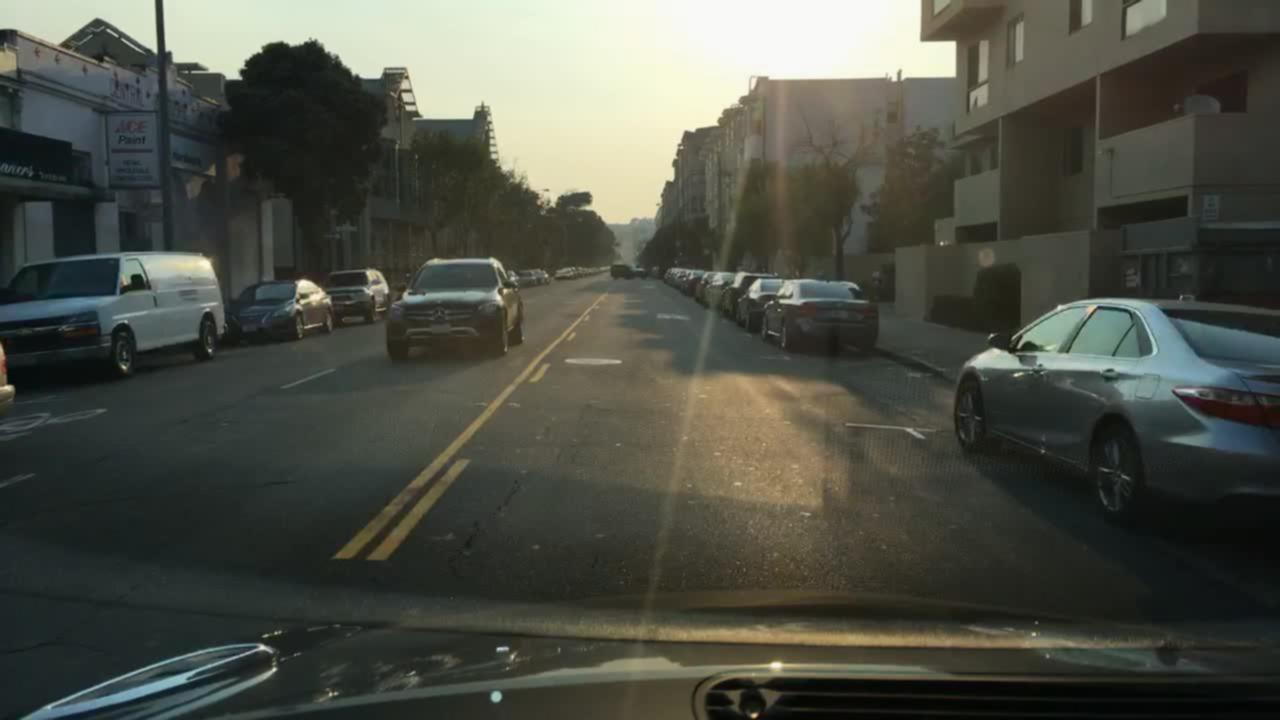Mercedes: (427, 303, 453, 327)
